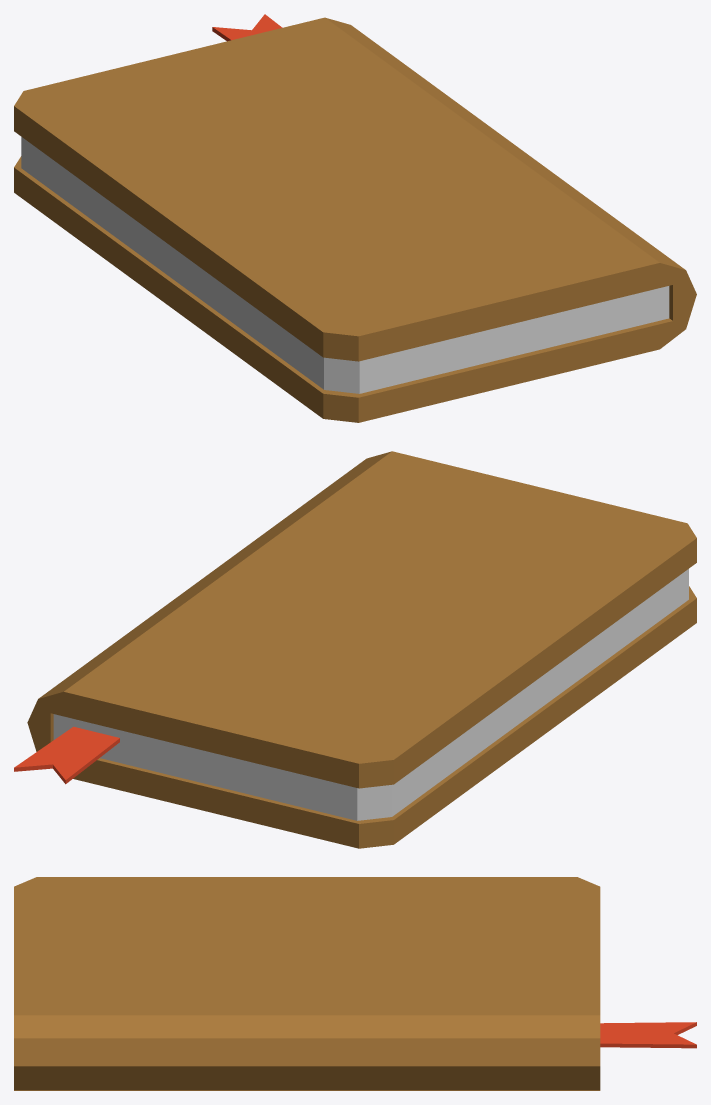
The model's file is book.02.fbx.
3 views of the same model, one above another, from view 1: azimuth 30°, elevation 25°; view 2: azimuth 150°, elevation 25°; view 3: azimuth 270°, elevation 25° (orthographic). The views are drawn at different scales.
Visible parts, largest first — view 1: book.02; view 2: book.02; view 3: book.02.
Boxes of the visible parts, <box> form: book.02: <box>14,14,696,422</box>; book.02: <box>14,451,696,848</box>; book.02: <box>14,877,696,1090</box>.
Bounding box in the file's own units: 0.2611 × 0.0599 × 0.4894.
